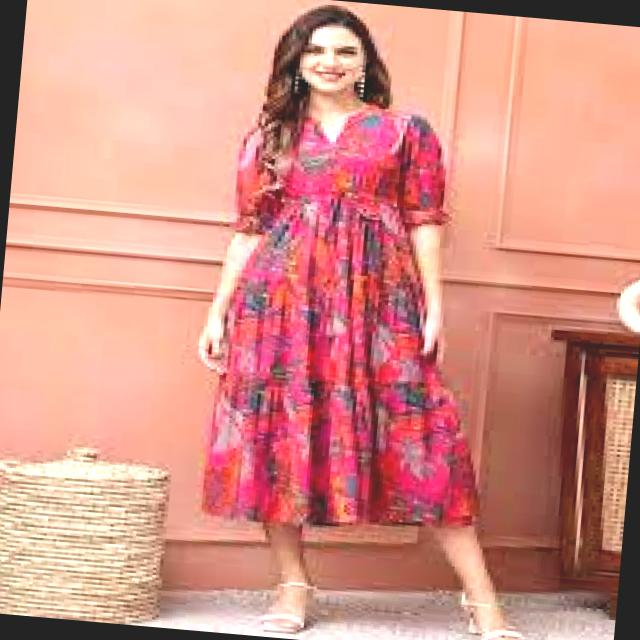dress: (202, 106, 479, 526)
face: (300, 25, 367, 95)
